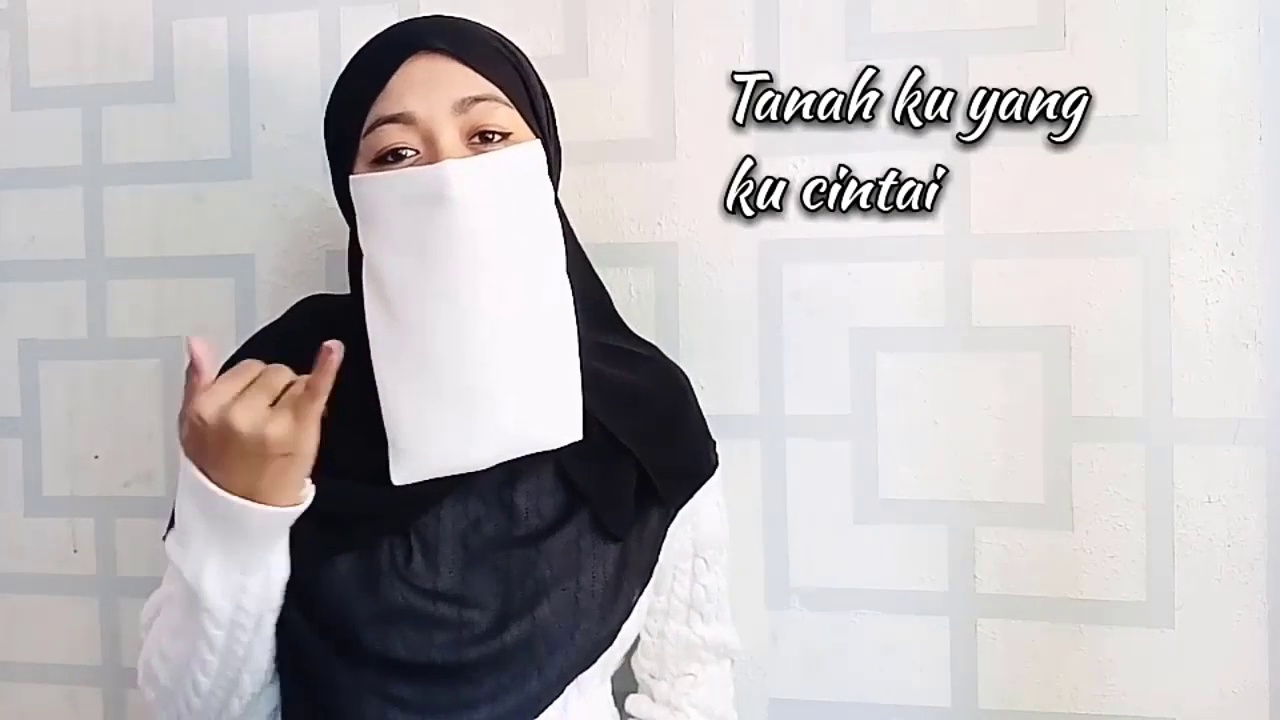YANG: (123, 312, 379, 548)
